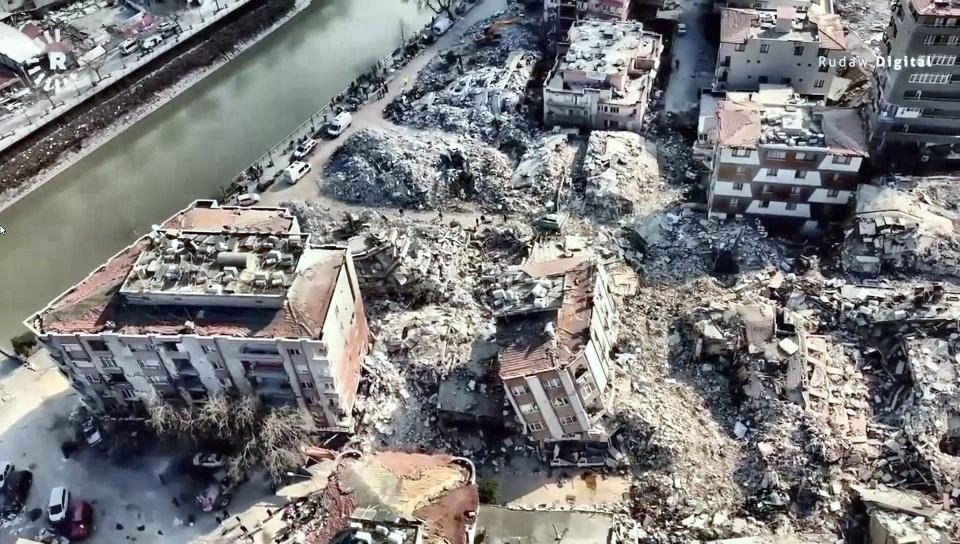kapali: (624, 83, 701, 468), (576, 468, 959, 543)
